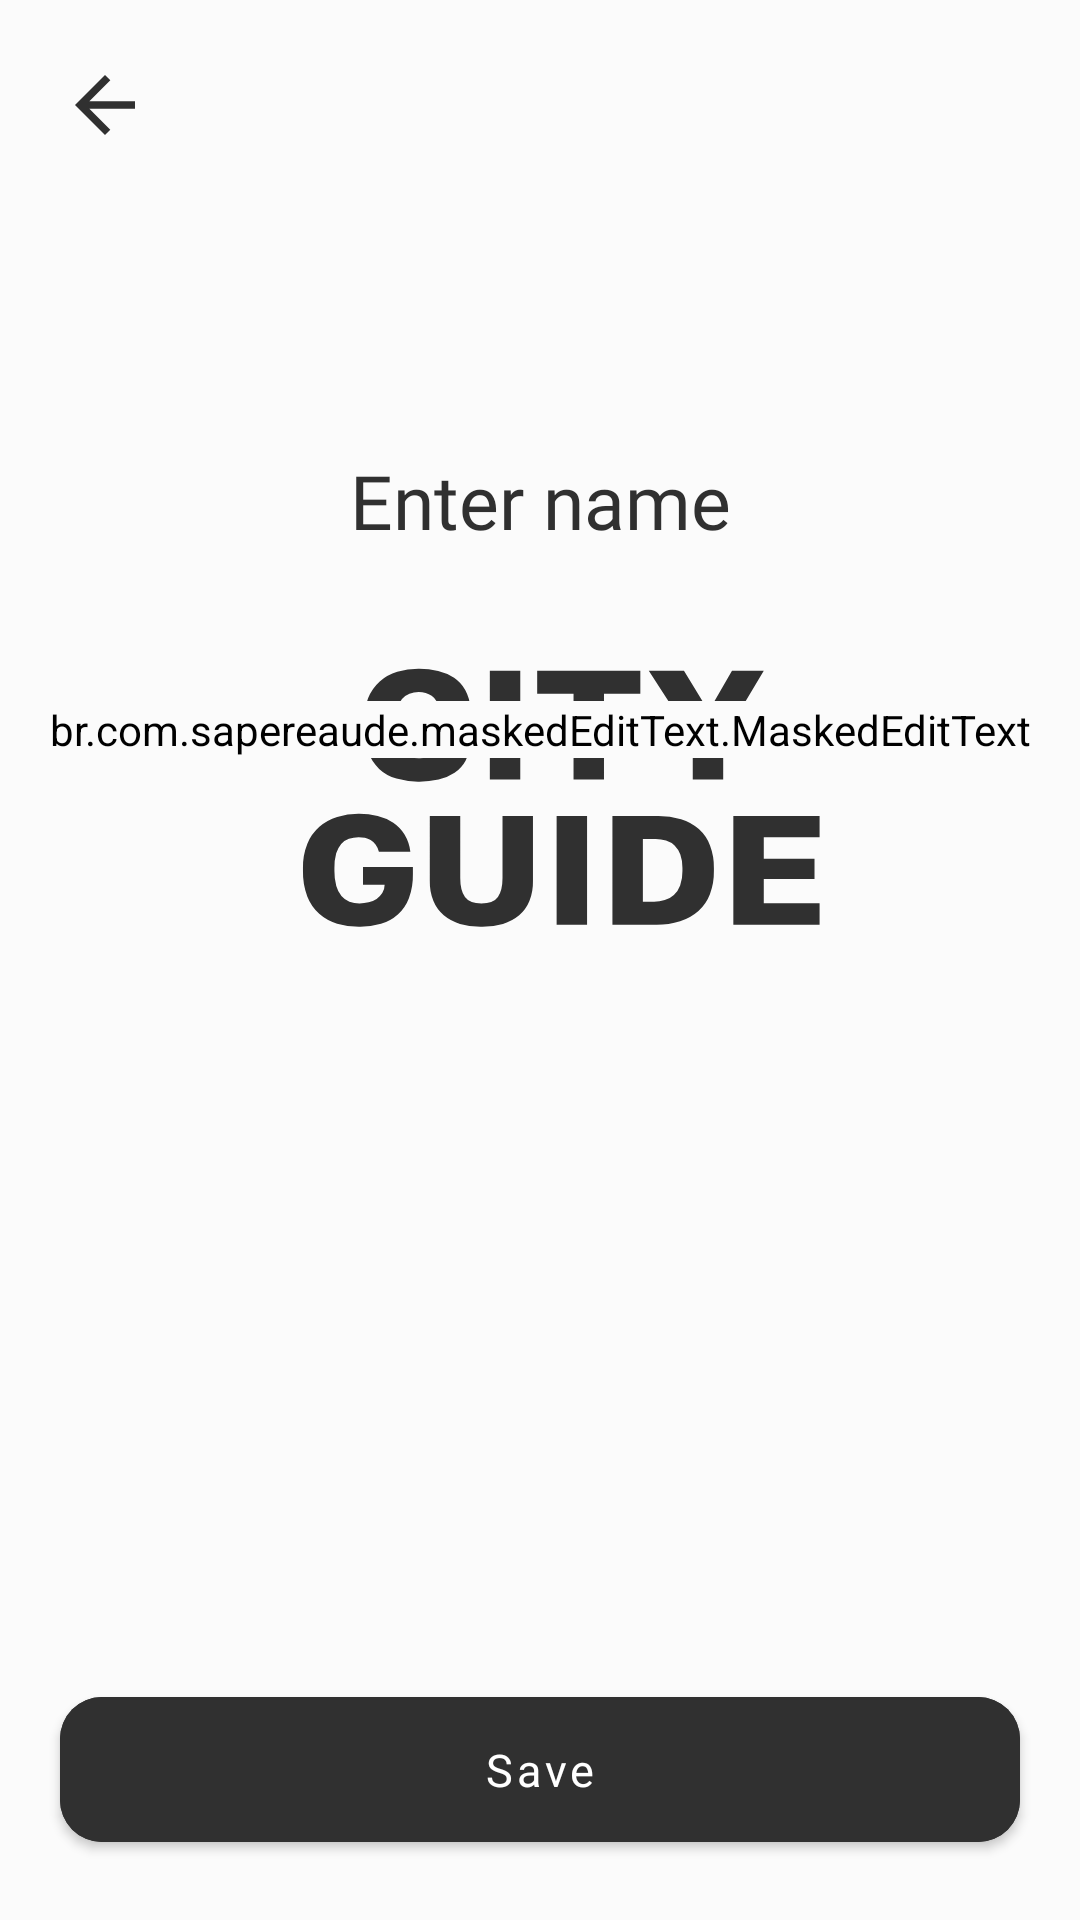

Named icons in this screenshot (1080 × 1920) and their bounding boxes, box(x1, y1, x2, y2):
back: box(75, 75, 135, 135)
